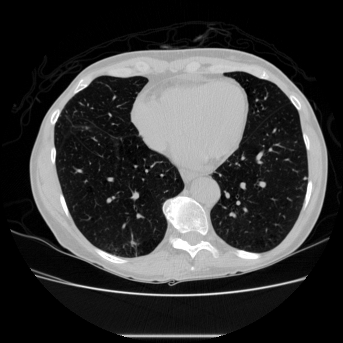nodule: (303, 176, 307, 180)
